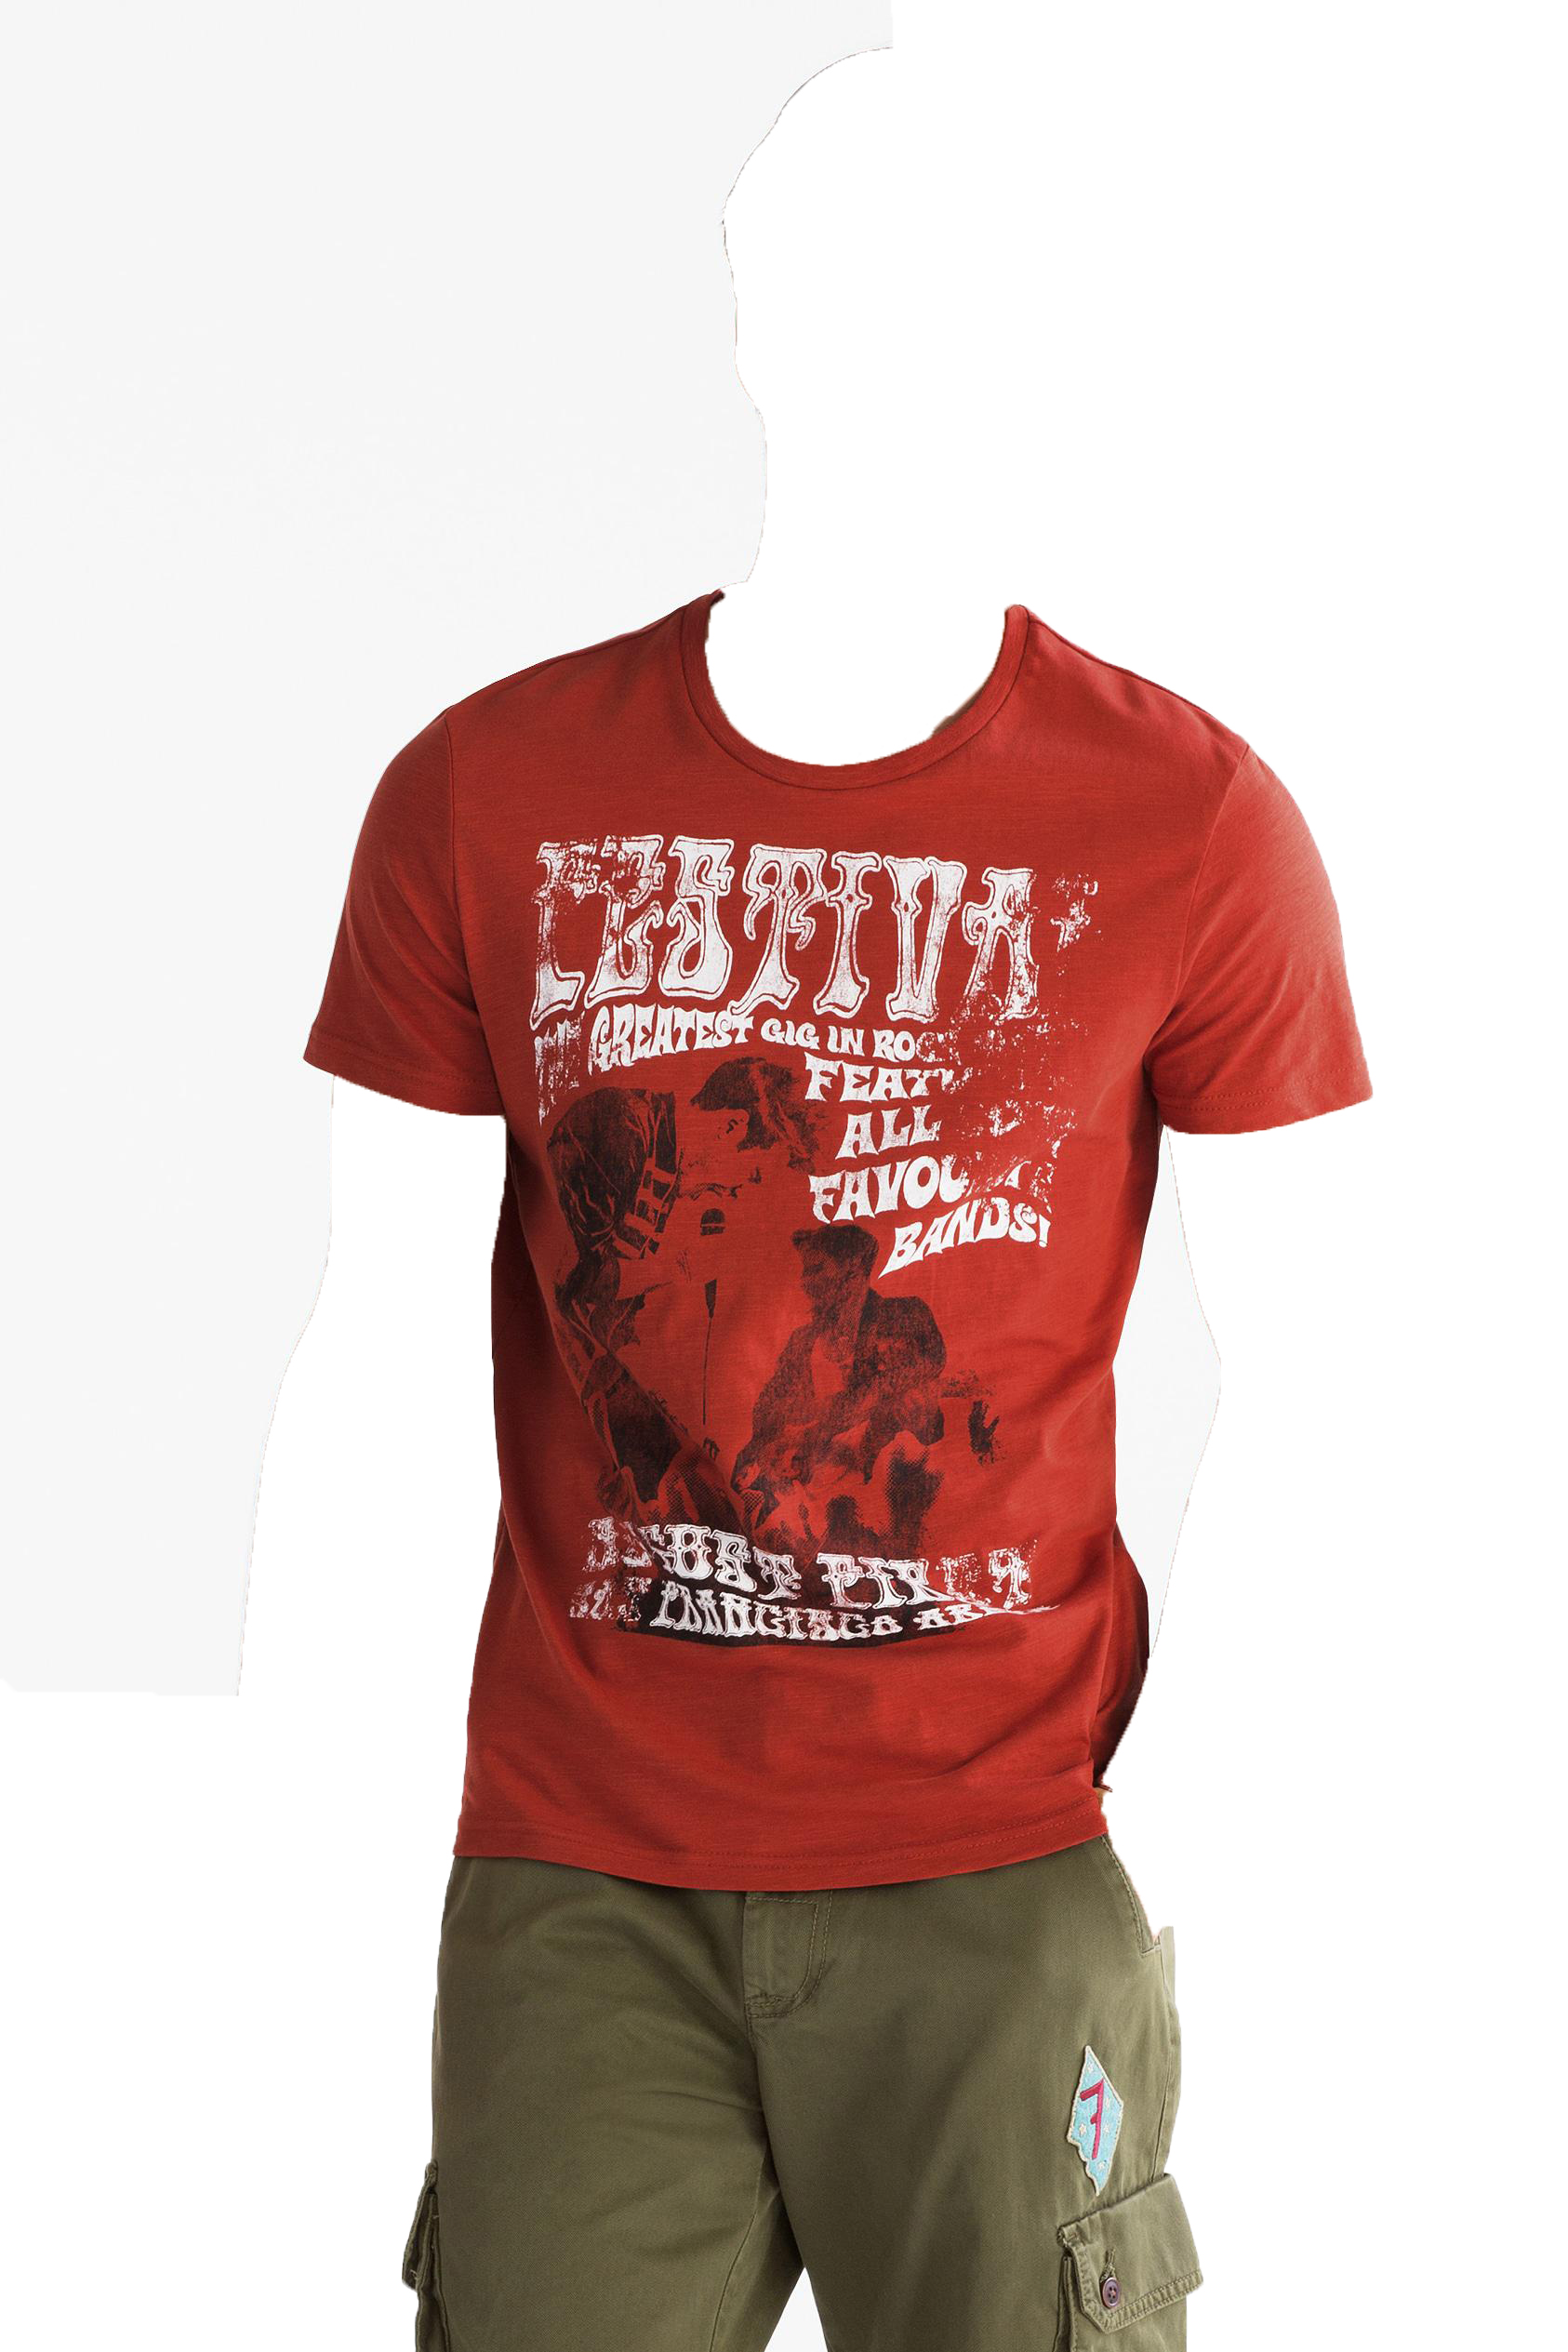teeshirt: (249, 579, 1400, 1916)
